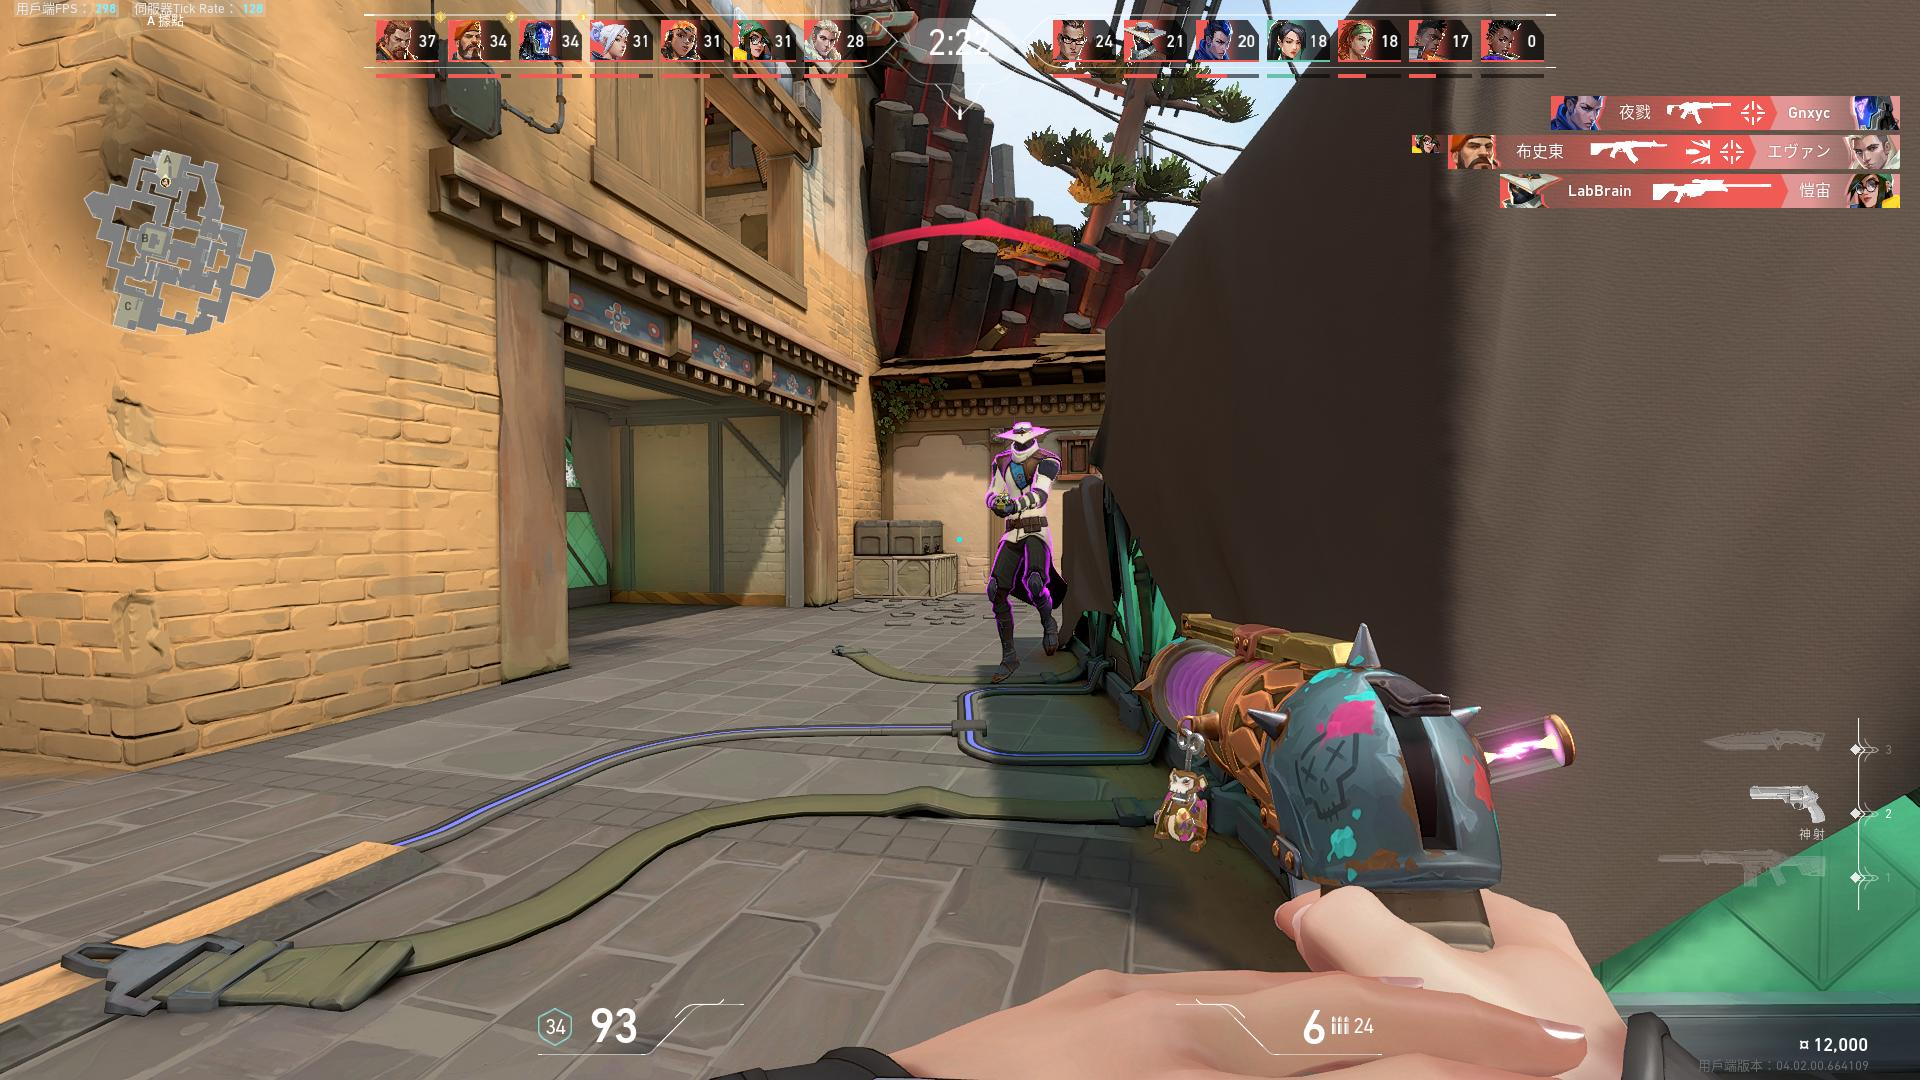enemyBody: (1013, 458, 1036, 526)
enemyHead: (1015, 438, 1031, 450)
